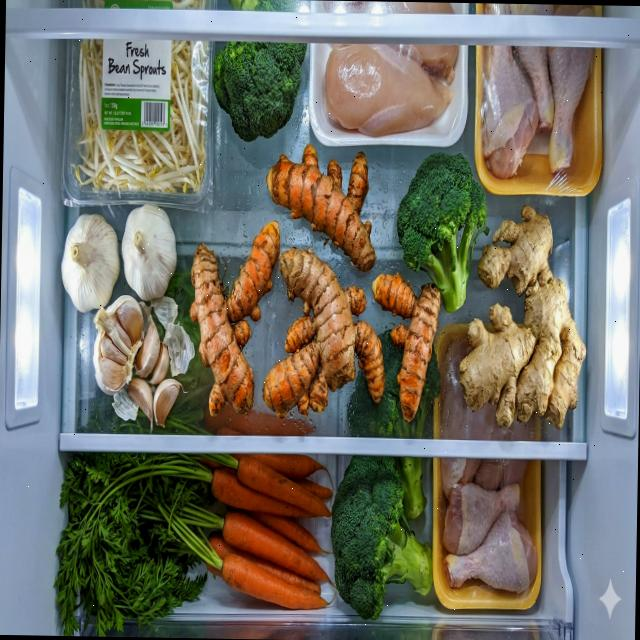bean_sprouts: (74, 38, 208, 196)
brocolli: (329, 327, 442, 622), (395, 150, 488, 314), (212, 41, 308, 143)
carrot: (204, 450, 336, 610)
chicken: (481, 44, 592, 180), (438, 456, 540, 594), (323, 42, 458, 140)
garlic: (58, 200, 184, 428)
ginger: (458, 204, 588, 430)
turmeric: (262, 245, 388, 420), (187, 217, 280, 418), (264, 142, 378, 272), (368, 272, 442, 424)
